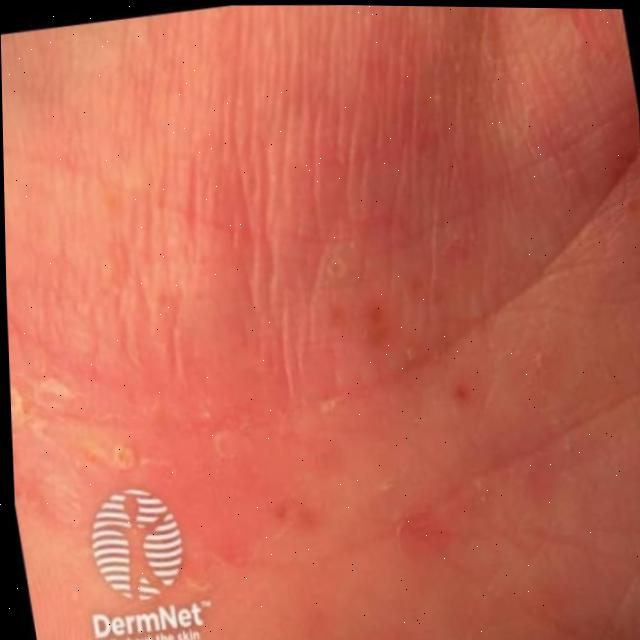Eczema: (96, 79, 544, 477)
